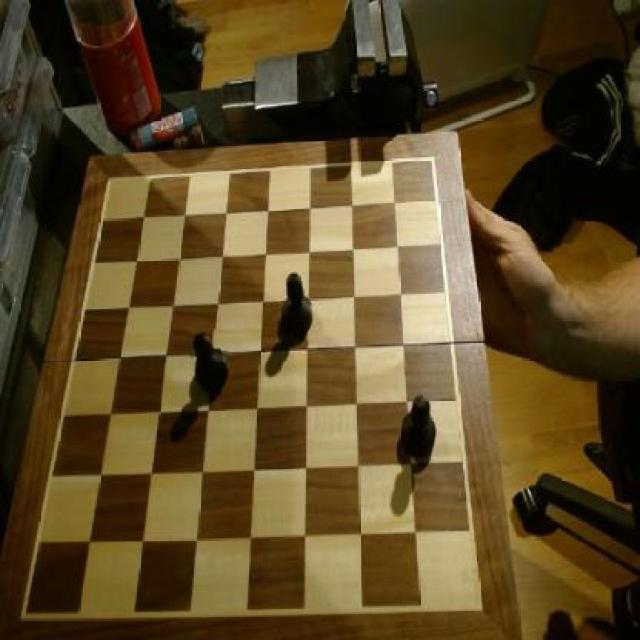black-knight: (191, 329, 230, 397), (400, 396, 435, 470), (280, 272, 316, 340)
